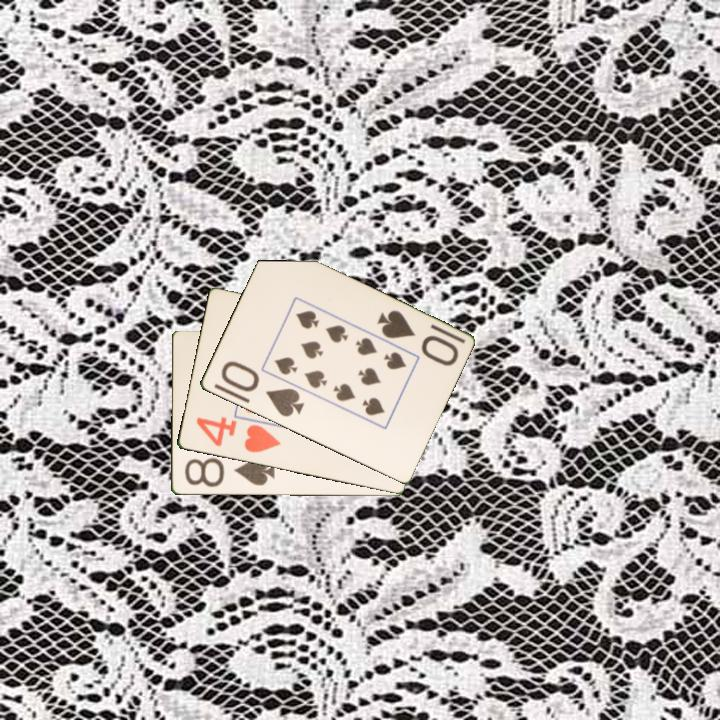10s: (217, 357, 307, 420), (373, 306, 461, 369)
4h: (192, 414, 283, 456)
8s: (181, 454, 277, 490)
